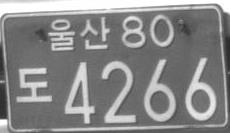0: (150, 14, 174, 47)
2: (101, 60, 136, 123)
4: (64, 61, 95, 123)
6: (184, 57, 217, 122), (143, 58, 176, 122)
8: (121, 15, 146, 49)
도: (16, 66, 52, 103)
울산_O: (48, 16, 110, 52)
